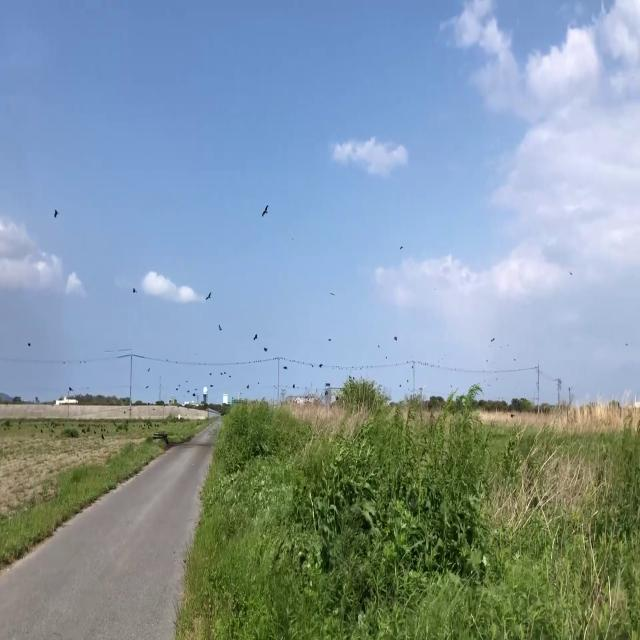bird: (262, 200, 268, 222), (206, 286, 212, 303), (54, 204, 59, 222), (253, 329, 258, 341), (394, 331, 398, 343), (218, 320, 222, 332), (264, 343, 268, 354)
